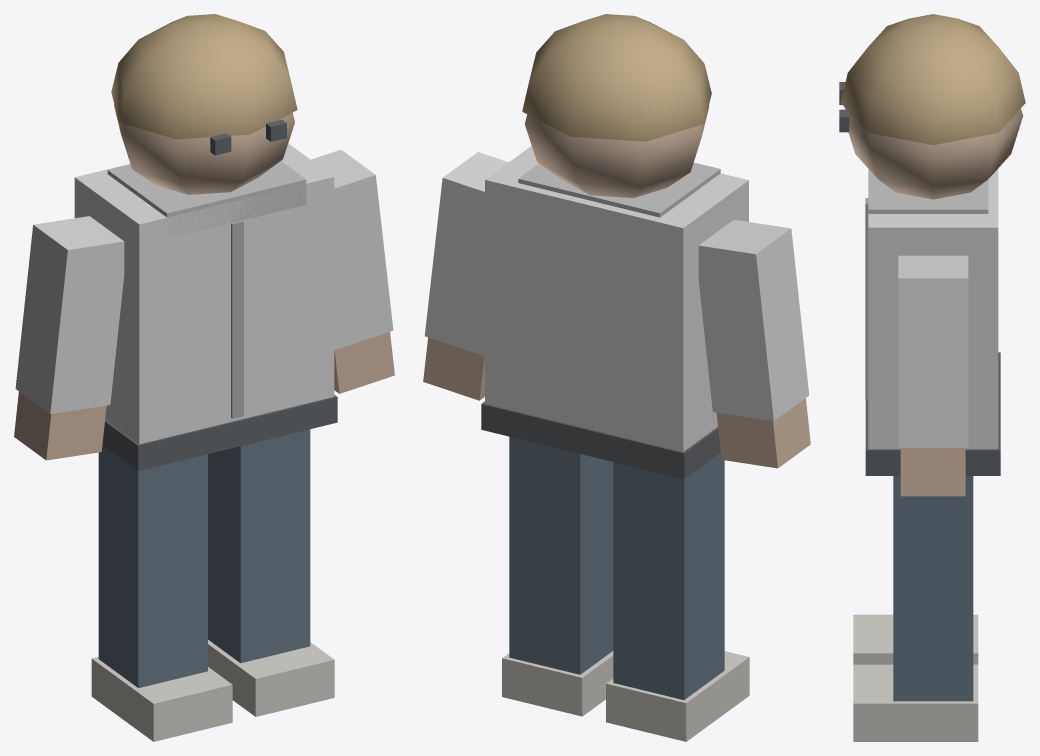
File: walker_4.glb
The picture shows the model from 3 angles, left to right: view 1: azimuth 30°, elevation 25°; view 2: azimuth 150°, elevation 25°; view 3: azimuth 270°, elevation 25°; orthographic projection.
Visible parts, largest first — view 1: walker_4; view 2: walker_4; view 3: walker_4.
Part boxes in pixels (x1=…): walker_4: x1=14, y1=14, x2=394, y2=741; walker_4: x1=423, y1=14, x2=810, y2=741; walker_4: x1=839, y1=14, x2=1025, y2=741.
Bounding box in the file's own units: 0.8113 × 1.49 × 0.373.
